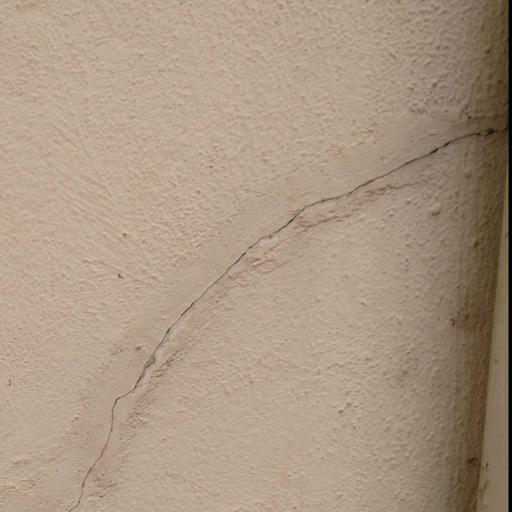minor_crack: (69, 112, 507, 512)
